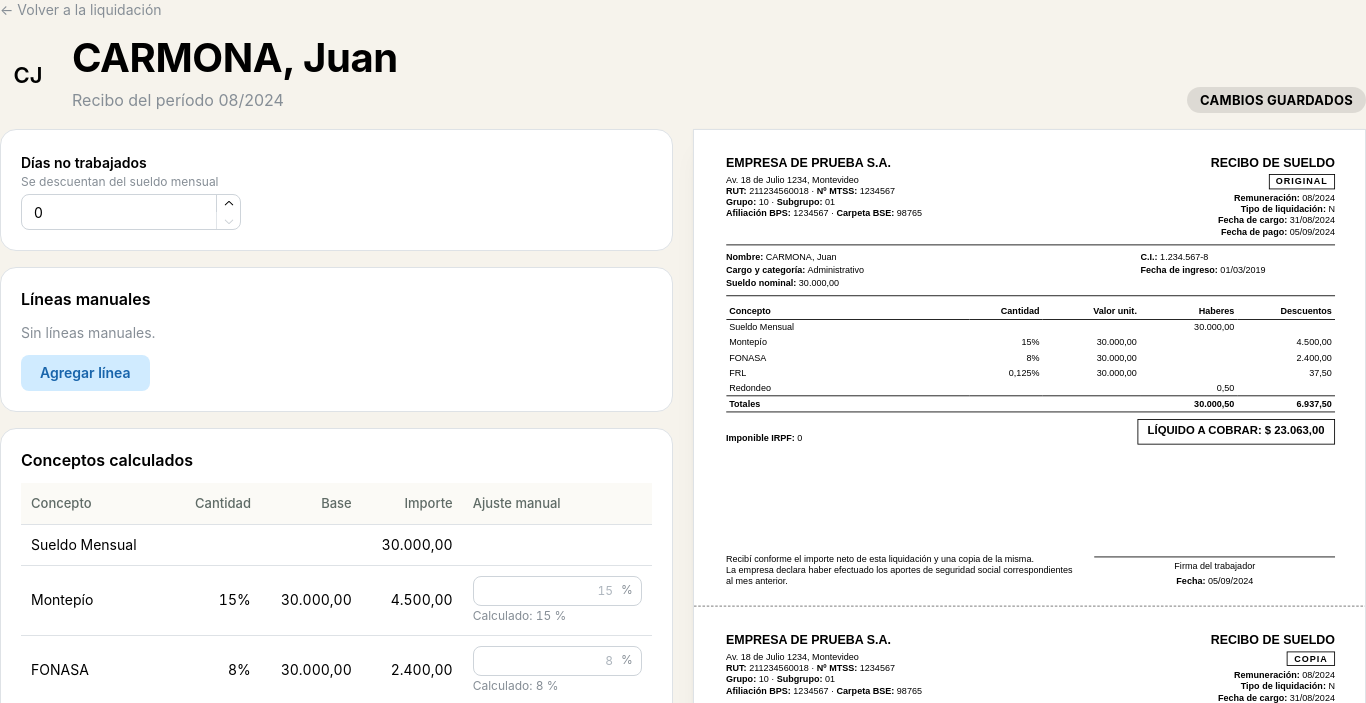
Scenario: ReciboEditorPage › adds a manual line, saves it once it has a description, and removes it
Click the button "Agregar línea" at [85, 373], box 21,355 -> 150,391
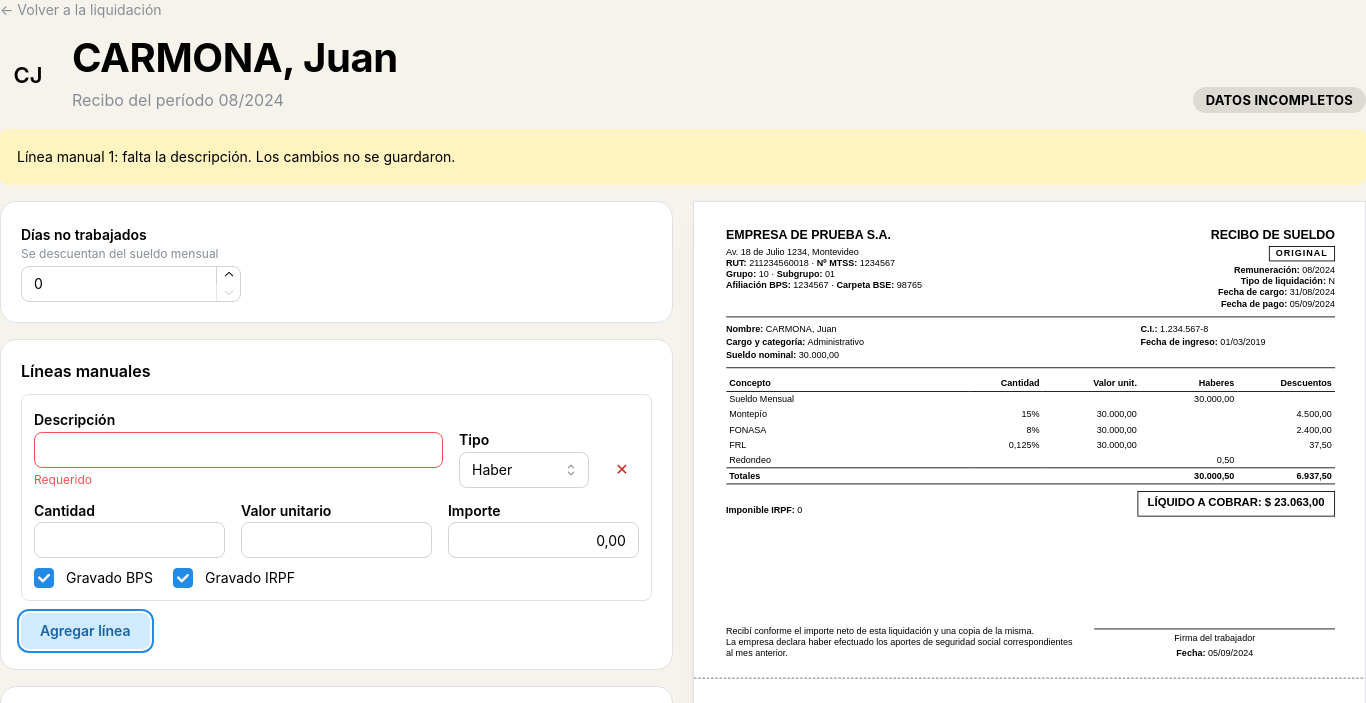
Expected: the message shows "Línea manual 1: falta la descripción", 17,148 -> 455,165
Type "Horas extra" into the field named "Descripción línea 1" at [238, 450], box 34,432 -> 443,468
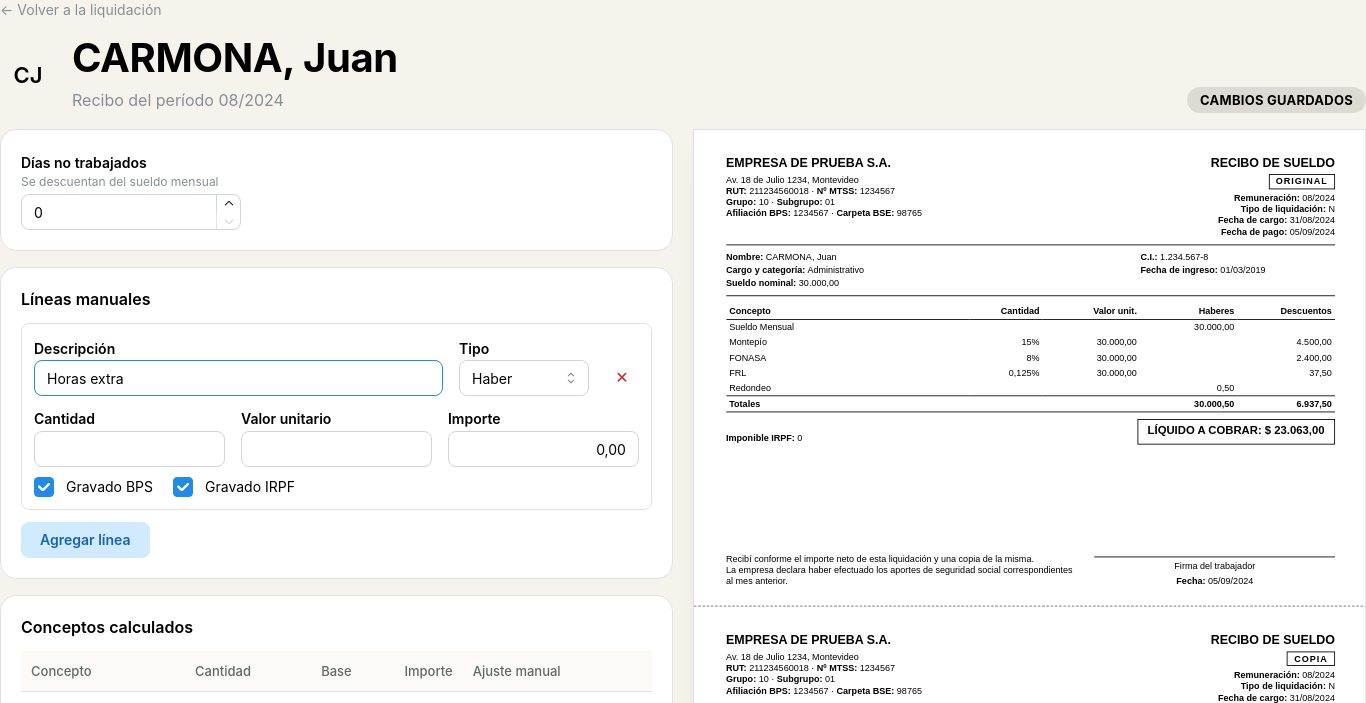
Type "2,5" into the field named "Cantidad línea 1" at [130, 449], box 34,431 -> 225,467
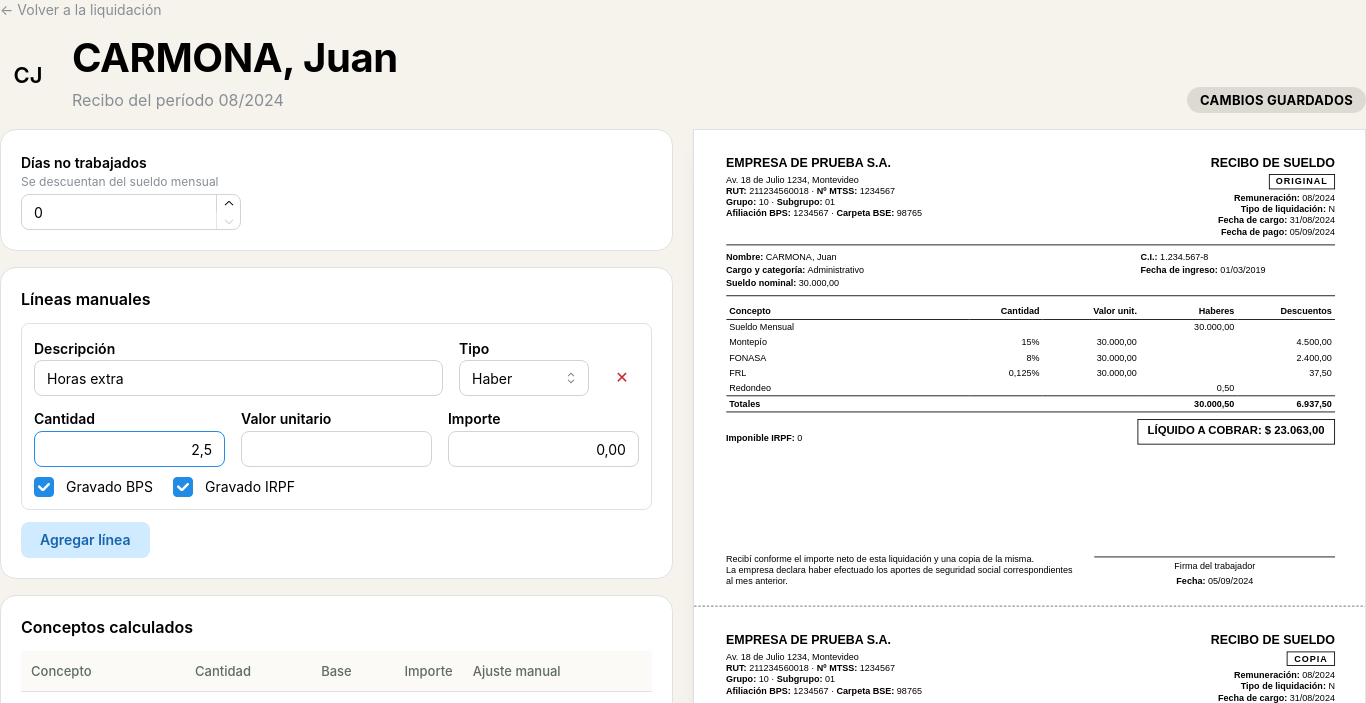
Replace the text in the field named "Importe línea 1" with "1.500,00" at [544, 449], box 448,431 -> 639,467
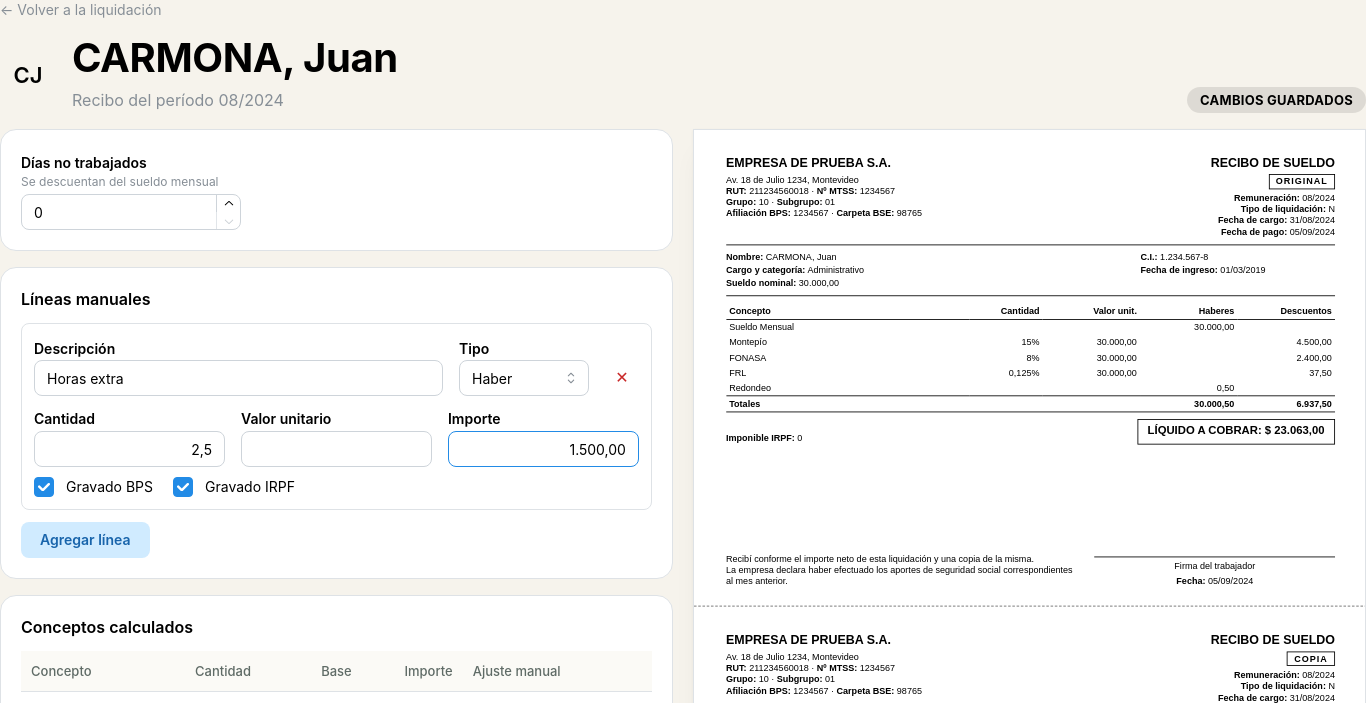
Click the checkbox labelled "Gravado IRPF" at [183, 487], box 173,477 -> 193,497
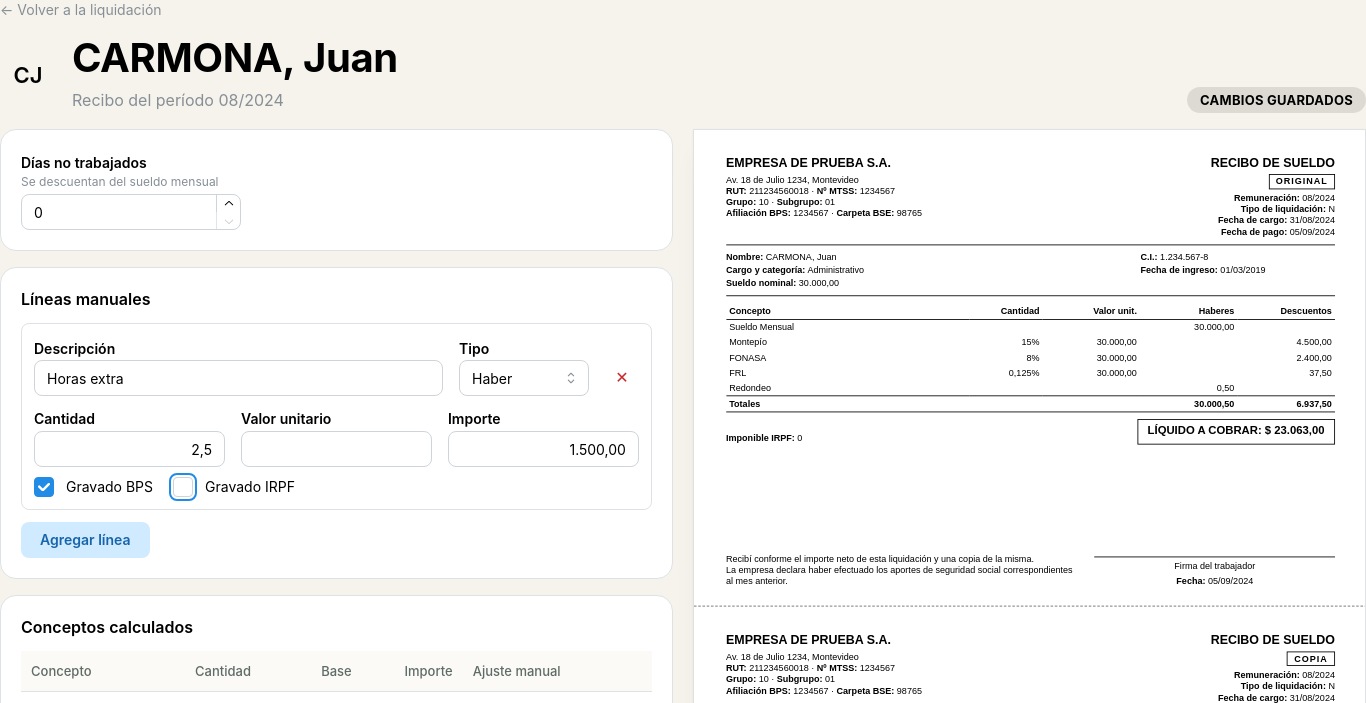
Click the button named "Quitar línea 1" at [622, 378], box 605,360 -> 639,394
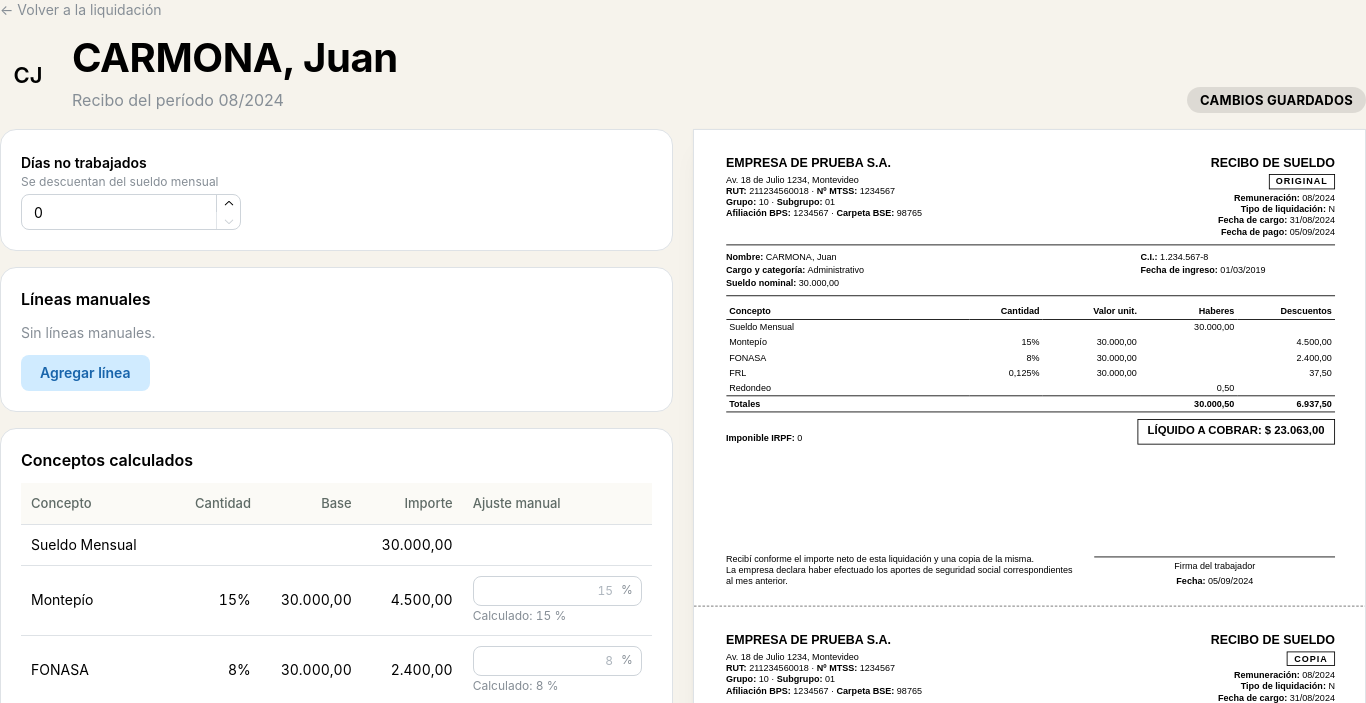
Expected: the text "Sin líneas manuales." is shown, 21,324 -> 156,341
